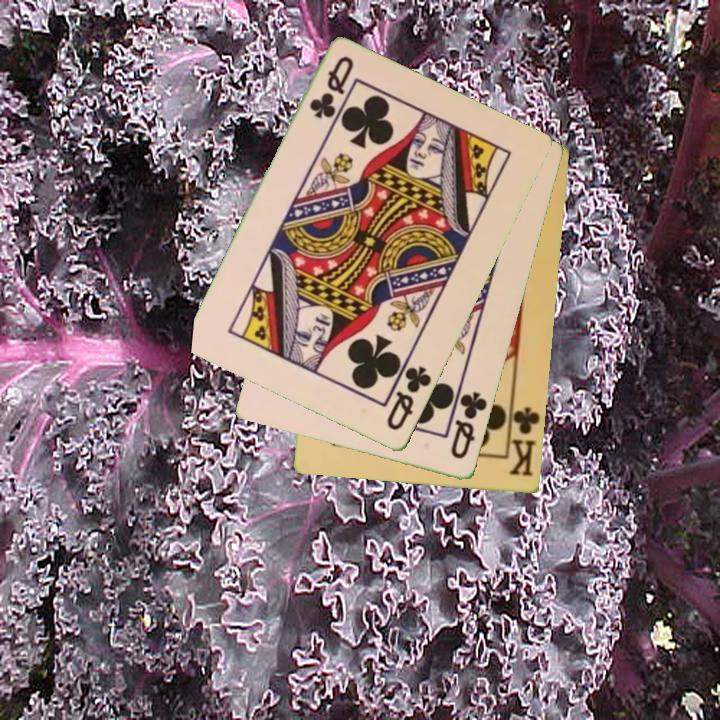Kc: (504, 399, 543, 480)
Qc: (383, 362, 435, 434), (306, 53, 357, 123), (447, 388, 491, 463)
